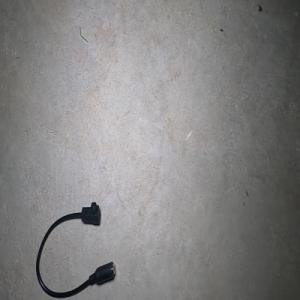Wire: (35, 201, 115, 298)
